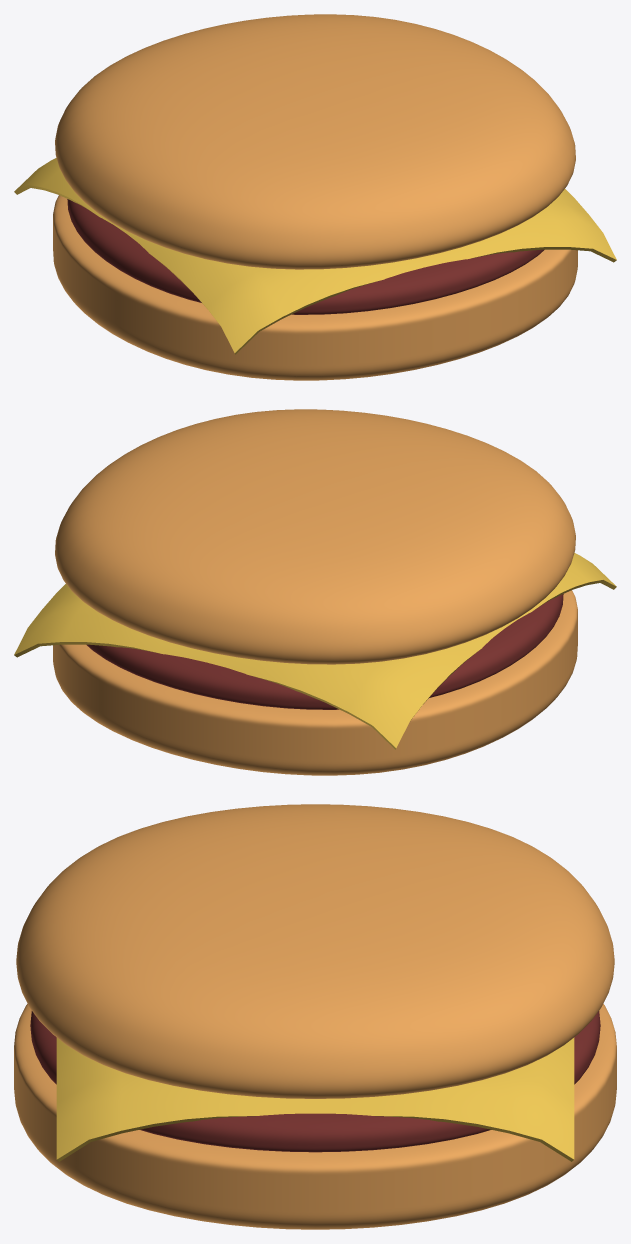
The model's file is hamburger.glb.
The picture shows the model from 3 angles, top to bottom: view 1: azimuth 30°, elevation 25°; view 2: azimuth 150°, elevation 25°; view 3: azimuth 270°, elevation 25°; orthographic projection. The views are drawn at different scales.
Visible parts, largest first — view 1: Cube.002, Cube, Plane, Cube.001; view 2: Cube.002, Cube, Plane, Cube.001; view 3: Cube.002, Cube, Plane, Cube.001.
Boxes of the visible parts, x1,y1,x2,y2 form: Cube.002: (55, 14, 575, 269); Cube: (53, 195, 577, 380); Plane: (14, 158, 616, 354); Cube.001: (67, 199, 544, 314); Cube.002: (55, 409, 575, 664); Cube: (53, 590, 577, 775); Plane: (14, 553, 616, 749); Cube.001: (86, 594, 563, 709); Cube.002: (16, 804, 614, 1098); Cube: (14, 1004, 616, 1229); Plane: (56, 1037, 574, 1161); Cube.001: (30, 1011, 600, 1152).
Size of the model in its own units: 9.31 by 4.15 by 9.31.
